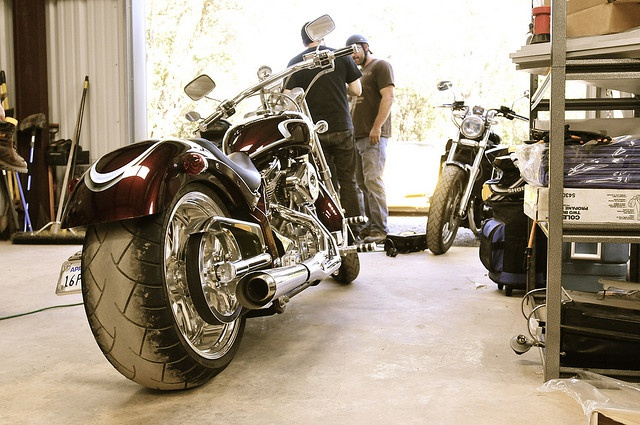non-vehicle: (56, 20, 400, 392), (427, 79, 530, 252)
